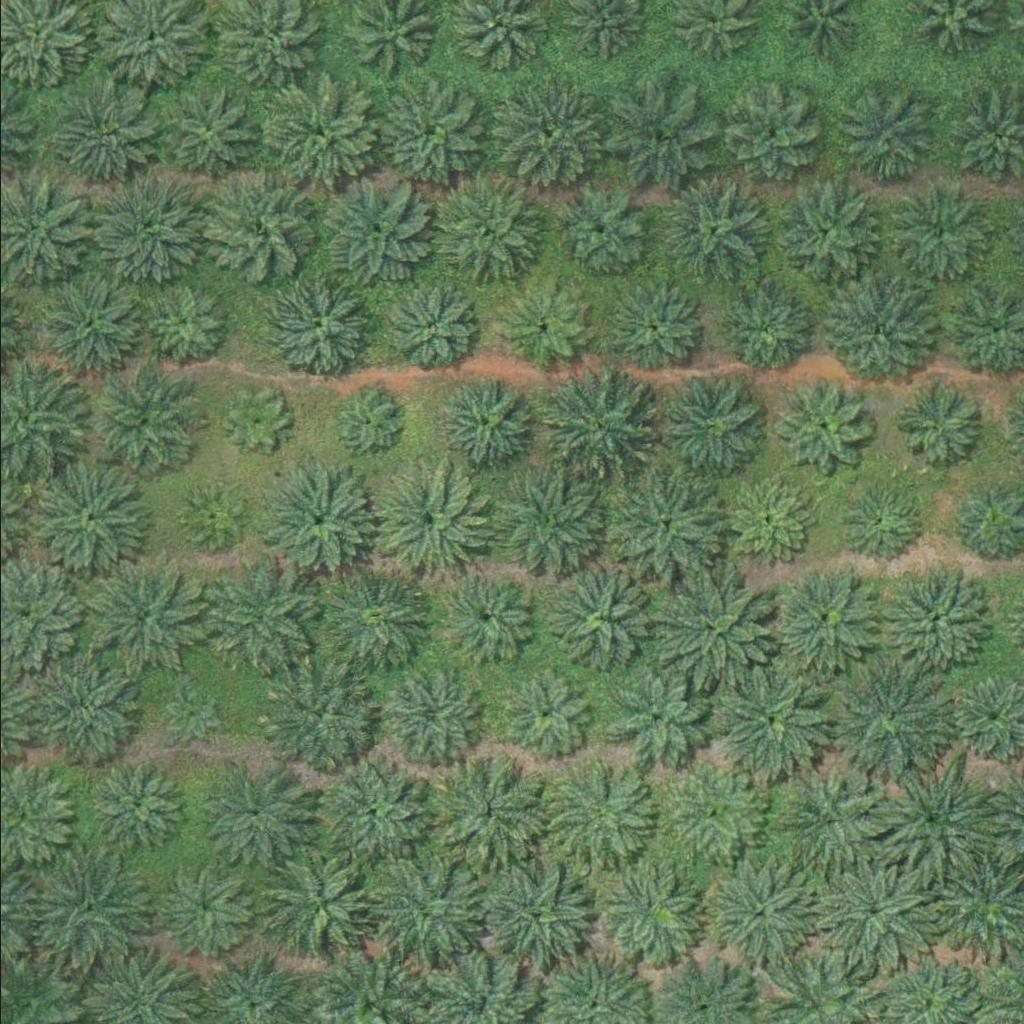Kelapa_Sawit: (767, 176, 881, 289), (821, 276, 935, 389), (651, 373, 765, 486), (538, 365, 652, 478), (36, 853, 150, 966), (192, 759, 306, 872), (487, 82, 600, 195), (368, 77, 481, 190), (430, 371, 543, 484), (368, 463, 481, 576), (879, 562, 992, 675), (763, 563, 876, 676), (830, 666, 943, 779), (712, 664, 825, 777), (540, 760, 653, 873), (431, 752, 544, 865), (363, 857, 476, 970), (264, 848, 377, 961), (312, 757, 425, 870), (91, 556, 204, 669), (257, 465, 370, 578), (31, 462, 144, 575), (202, 170, 315, 283), (89, 174, 202, 287), (264, 75, 377, 188), (144, 77, 257, 190), (606, 471, 720, 583), (494, 468, 608, 580), (426, 565, 540, 677), (257, 659, 371, 771), (314, 562, 428, 674), (608, 82, 721, 194), (661, 175, 774, 287), (430, 172, 543, 284), (657, 572, 770, 684), (544, 566, 657, 678), (872, 763, 985, 875), (770, 765, 883, 877), (811, 854, 924, 966), (700, 855, 813, 967), (476, 860, 589, 972), (26, 654, 139, 766), (202, 565, 315, 677), (85, 366, 198, 478), (258, 274, 371, 386), (27, 268, 140, 380), (317, 174, 430, 286), (42, 78, 155, 190), (724, 84, 825, 184), (553, 181, 654, 281), (607, 665, 708, 765), (661, 761, 762, 861), (601, 861, 702, 961), (838, 92, 938, 192), (890, 184, 990, 284), (716, 278, 816, 378), (602, 278, 702, 378), (770, 375, 870, 475), (379, 668, 479, 768), (156, 858, 256, 958), (87, 756, 187, 856), (382, 283, 470, 371), (891, 382, 979, 470), (837, 480, 925, 568), (723, 477, 811, 565), (142, 280, 230, 368), (498, 283, 586, 370), (501, 674, 589, 761), (180, 486, 243, 549), (334, 394, 397, 457), (223, 389, 286, 452), (160, 683, 223, 745)
